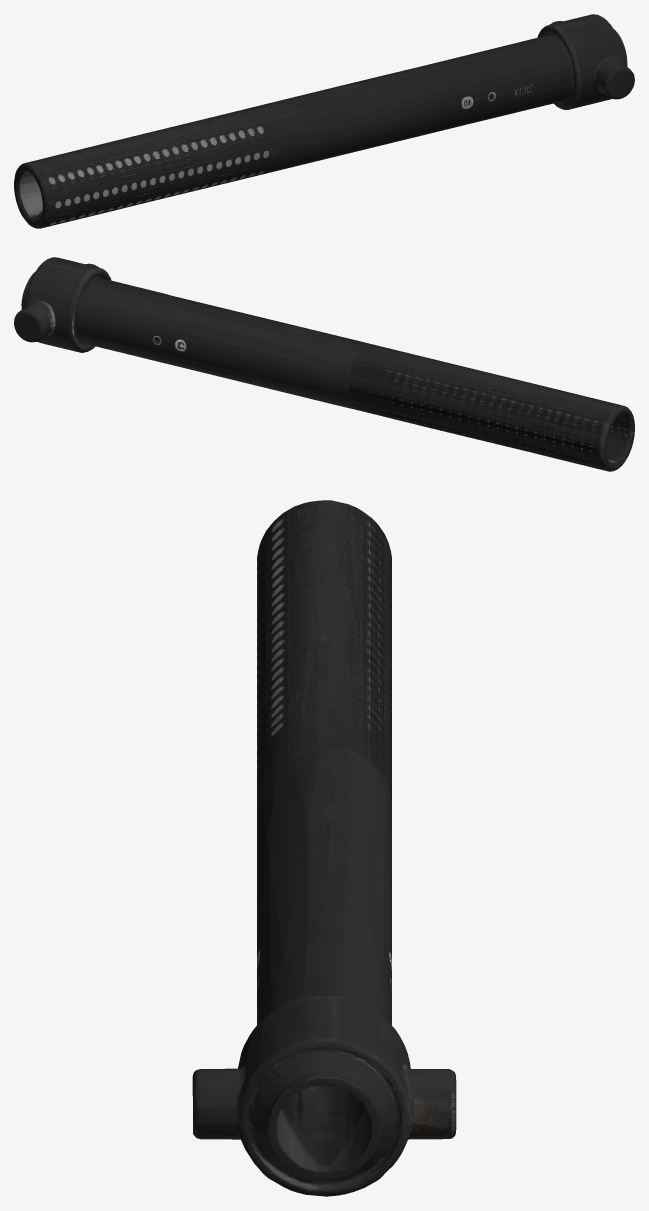
The picture shows the model from 3 angles, top to bottom: view 1: azimuth 30°, elevation 25°; view 2: azimuth 150°, elevation 25°; view 3: azimuth 270°, elevation 25°; orthographic projection. The views are drawn at different scales.
Size of the model in its own units: 1.9 by 0.2445 by 0.3706.
1 material, 1 textured.
